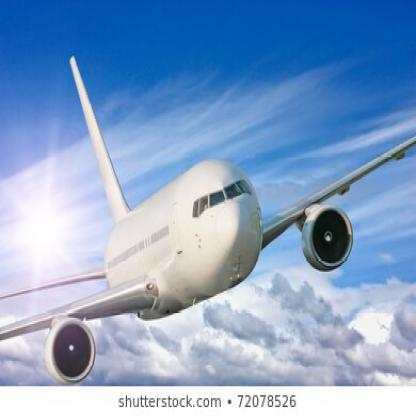CIV_Plane: (0, 52, 413, 389)
